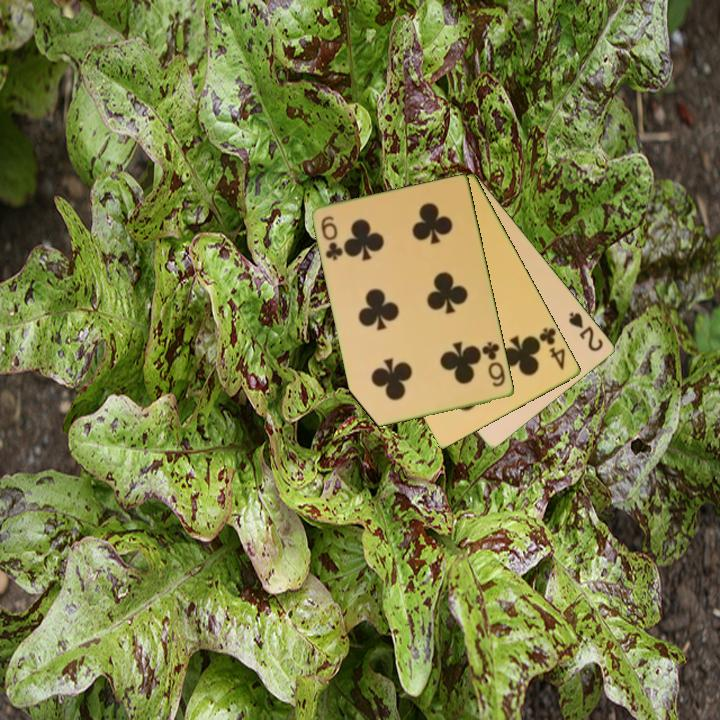2s: (565, 308, 607, 354)
4c: (533, 324, 569, 373)
6c: (479, 338, 509, 390), (318, 213, 346, 264)
